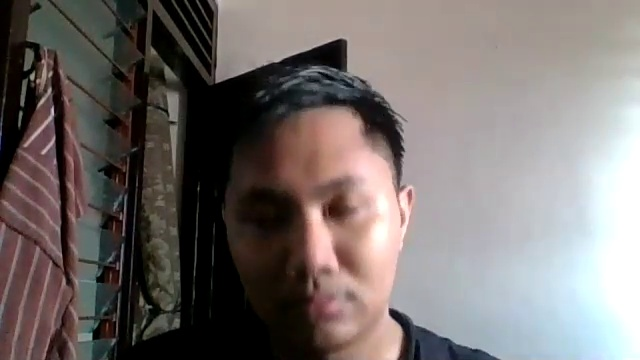Distracted: (228, 88, 412, 347)
